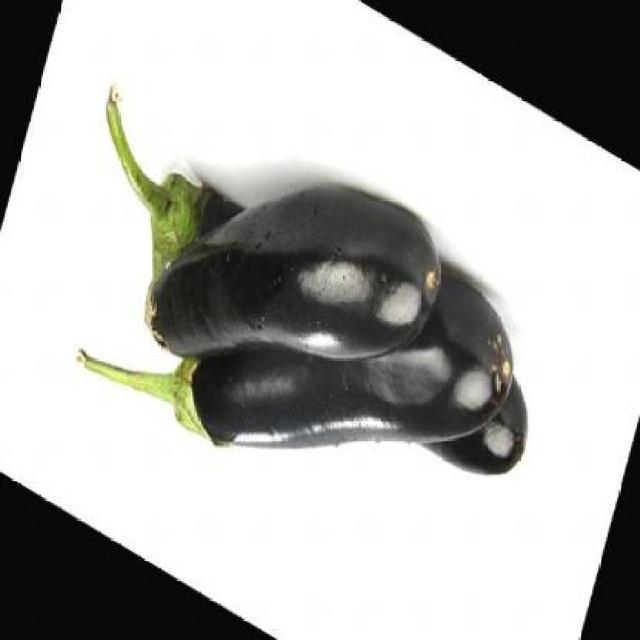eggplant: (73, 266, 514, 464), (134, 177, 441, 364), (72, 72, 258, 297), (406, 328, 540, 498)
